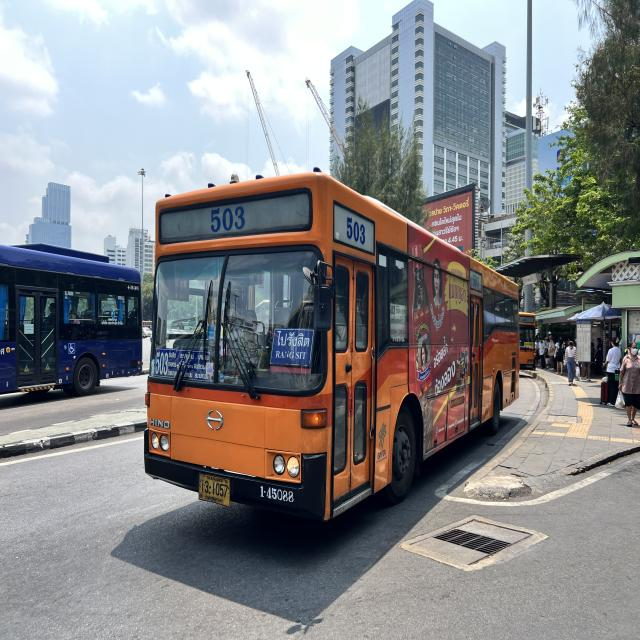BMTA-bus: (142, 172, 521, 525)
Bus-Line-Number: (207, 206, 250, 237)
Destination-Sign-Normal: (270, 330, 313, 367)
TSB-Bus: (0, 244, 146, 398)
